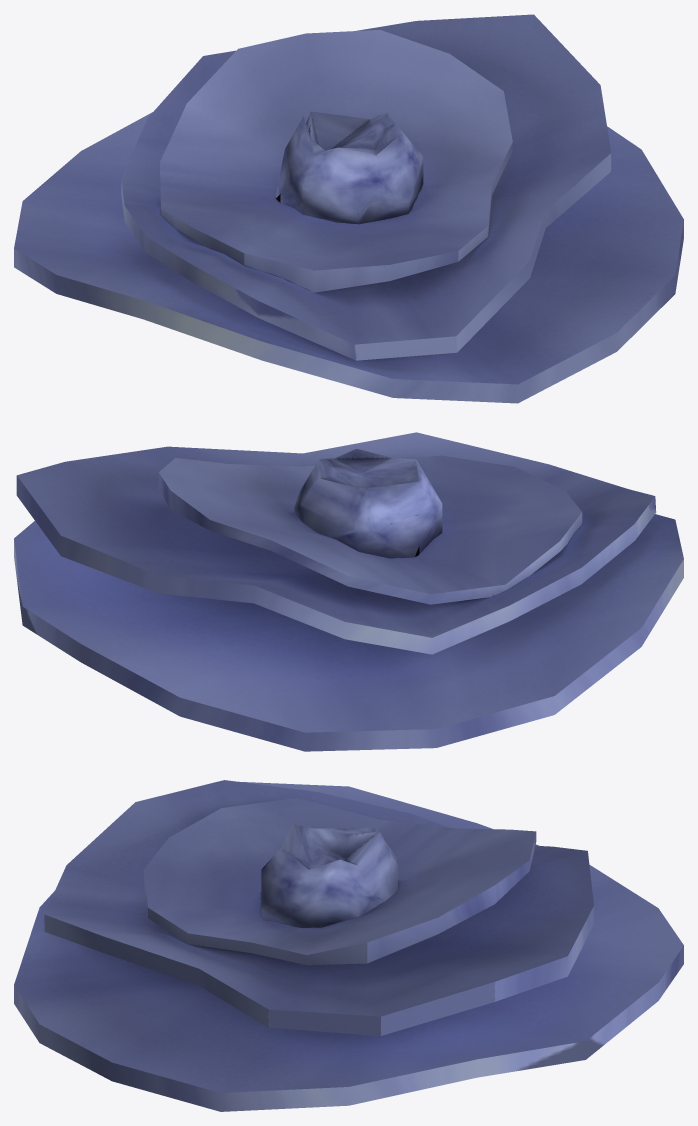
The model's file is coral1.glb.
The picture shows the model from 3 angles, top to bottom: view 1: azimuth 30°, elevation 25°; view 2: azimuth 150°, elevation 25°; view 3: azimuth 270°, elevation 25°; orthographic projection.
Parts seen in each view (by area): view 1: Coral01.003, Coral01, Coral01.002, Coral01.001; view 2: Coral01.003, Coral01.002, Coral01, Coral01.001; view 3: Coral01.003, Coral01.002, Coral01, Coral01.001.
Boxes of the visible parts, <box> form: Coral01.003: <box>14,112,683,403</box>; Coral01: <box>159,30,512,292</box>; Coral01.002: <box>121,14,611,360</box>; Coral01.001: <box>275,111,423,224</box>; Coral01.003: <box>14,514,683,751</box>; Coral01.002: <box>16,432,656,654</box>; Coral01: <box>158,455,582,604</box>; Coral01.001: <box>294,449,442,558</box>; Coral01.003: <box>14,781,683,1111</box>; Coral01.002: <box>44,780,593,1035</box>; Coral01: <box>144,797,536,965</box>; Coral01.001: <box>261,824,398,927</box>.
Size of the model in its own units: 0.645 by 0.1797 by 0.645.
Materials: 1 (1 with a texture image).
